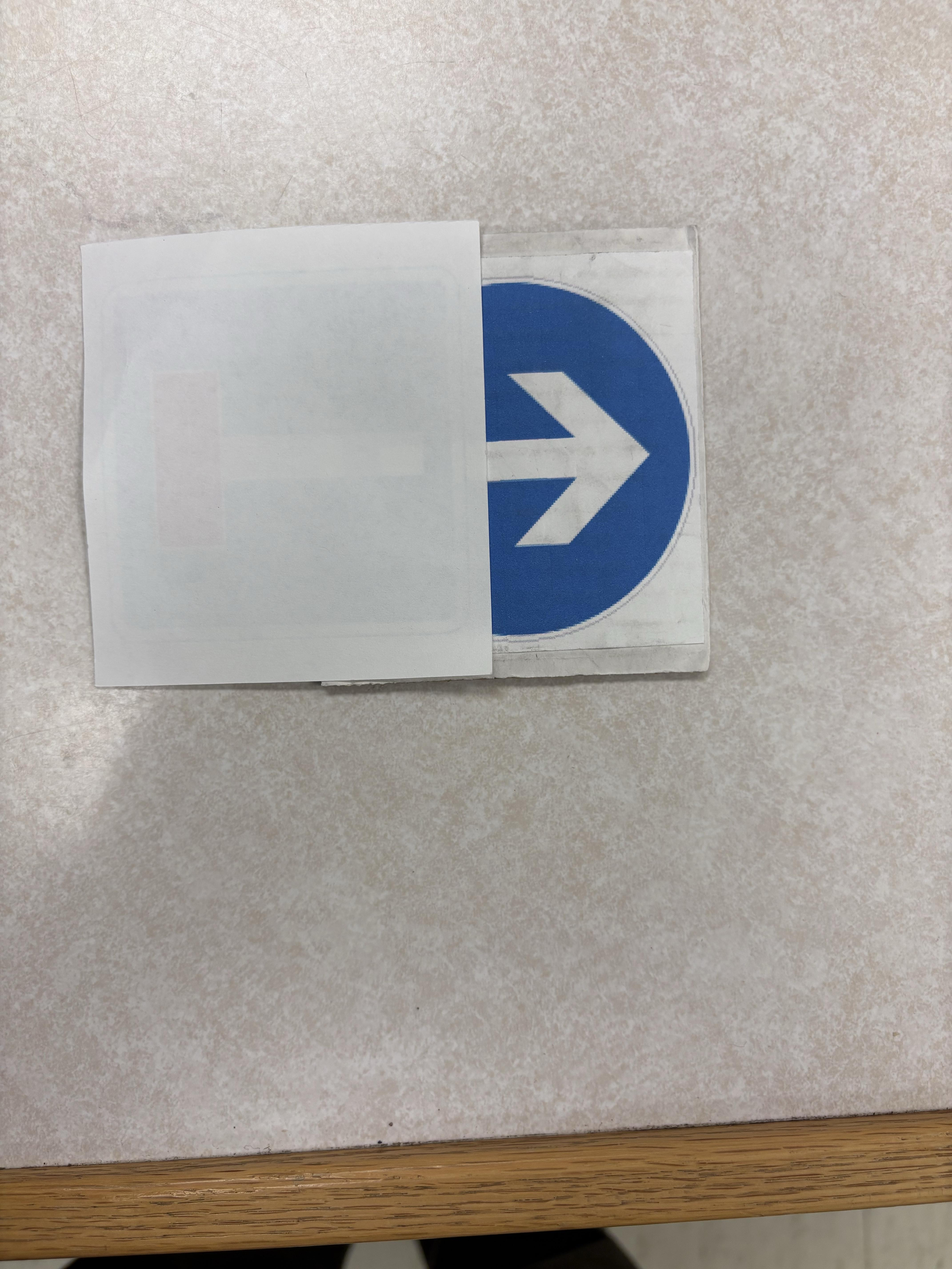Proceed Right: (360, 297, 532, 918)
